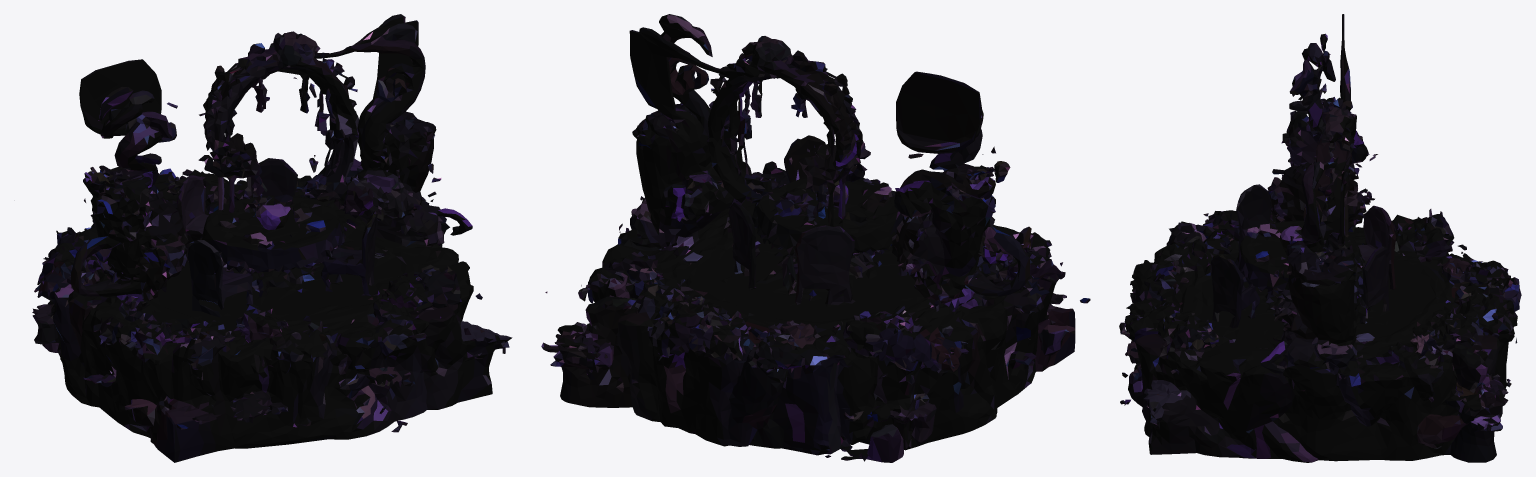
Rendered from mesa-cha-09.glb.
3 renders of one model, left to right at view 1: azimuth 30°, elevation 25°; view 2: azimuth 150°, elevation 25°; view 3: azimuth 270°, elevation 25°, orthographic. The views are drawn at different scales.
Parts seen in each view (by area): view 1: SM_Mesa_Cha_09; view 2: SM_Mesa_Cha_09; view 3: SM_Mesa_Cha_09.
Boxes of the visible parts, x1,y1,x2,y2 form: SM_Mesa_Cha_09: [32, 14, 512, 462]; SM_Mesa_Cha_09: [541, 14, 1090, 462]; SM_Mesa_Cha_09: [1119, 14, 1521, 462].
Bounding box in the file's own units: 4.84 × 4 × 4.75.
Materials: 1 (1 with a texture image).
